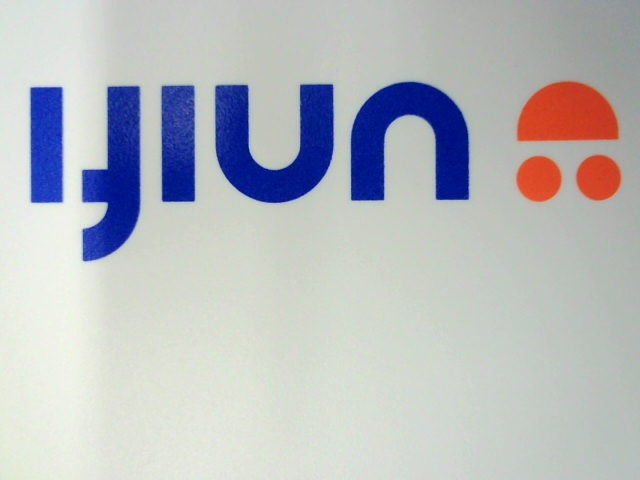BN_unifi: (19, 69, 631, 265)
